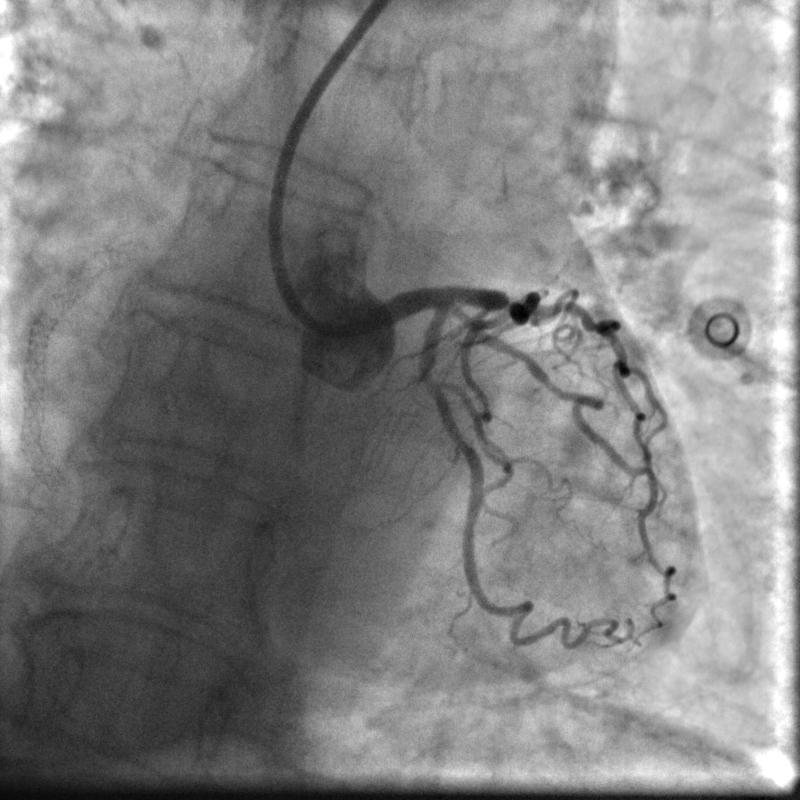Stenosis: (418, 368, 444, 397)
